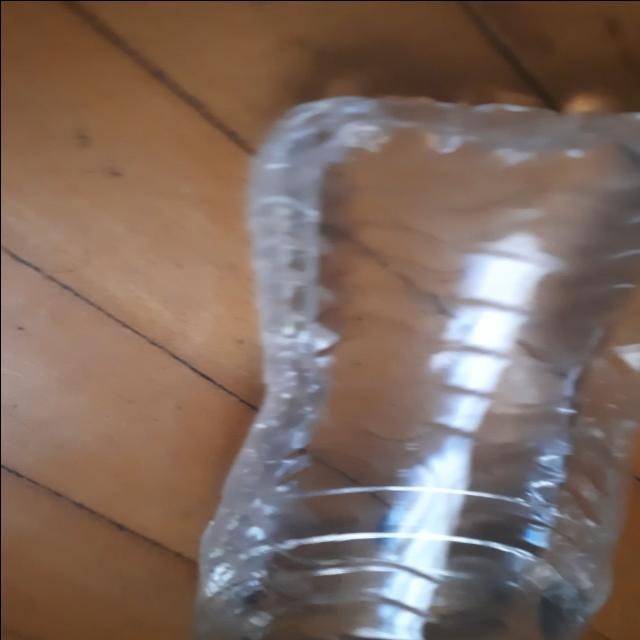Plastic: (199, 102, 640, 640)
